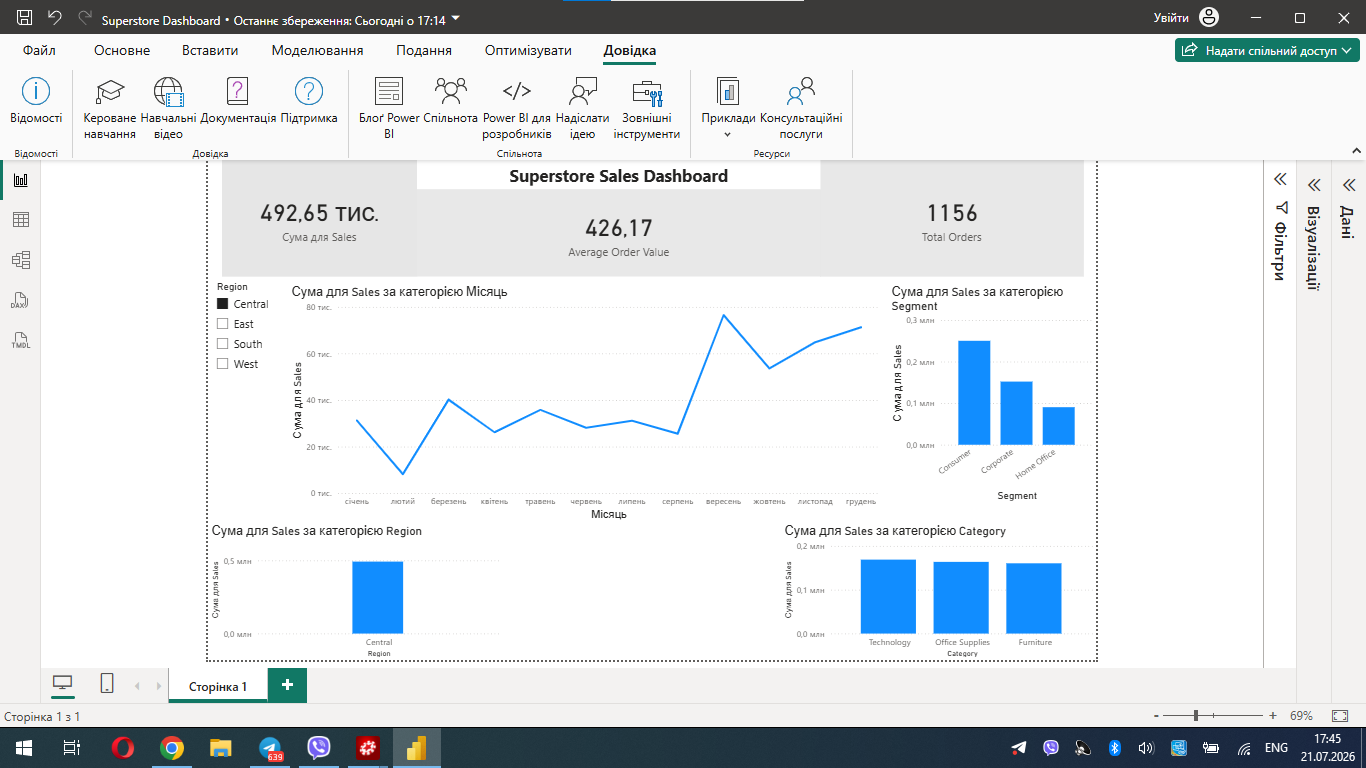

What the dashboard file says about the page in this screenshot:
{"tool":"powerbi","page":{"name":"Сторінка 1","canvas":[1280,720],"ordinal":0},"visuals":[{"type":"card","fields":{"Values":["Sum(train csv.Sales)"]},"box":[0,0,280.5,178.1],"z":0},{"type":"card","fields":{"Values":["Sum(train csv.Sales)"]},"box":[20.2,0,280.5,168],"z":1000},{"type":"columnChart","fields":{"Category":["train csv.Category"],"Y":["Sum(train csv.Sales)"]},"box":[824.8,522.4,455.2,198.2],"z":2000},{"type":"columnChart","fields":{"Category":["train csv.Region"],"Y":["Sum(train csv.Sales)"]},"box":[0,522.4,425,198.2],"z":3000},{"type":"columnChart","fields":{"Category":["train csv.Segment"],"Y":["Sum(train csv.Sales)"]},"box":[979.3,178.1,300.7,317.5],"z":4000},{"type":"lineChart","fields":{"Category":["train csv.Order Date.Варіація.Ієрархія дат.Місяць"],"Y":["Sum(train csv.Sales)"]},"box":[115.9,178.1,856.7,344.4],"z":5000},{"type":"slicer","fields":{"Values":["train csv.Region"]},"box":[0,168,115.9,168],"z":6000},{"type":"card","fields":{"Values":["train csv.Total Orders"]},"box":[881.9,0,379.6,168],"z":7000},{"type":"card","fields":{"Values":["train csv.Average Order Value"]},"box":[300.7,42,581.2,126],"z":8000},{"type":"textbox","box":[300.7,0,581.2,42],"z":9000}]}

Visuals, with their boxes on the page's 1280x720 design canvas (x1, y1, x2, y2). These are canvas units, not pixel positions in the 1366x768 screenshot, which may show the page scaled, cropped or inside an application window:
card - Sum(train csv.Sales): (0, 0, 280, 178)
card - Sum(train csv.Sales): (20, 0, 301, 168)
columnChart - train csv.Category x Sum(train csv.Sales): (825, 522, 1280, 721)
columnChart - train csv.Region x Sum(train csv.Sales): (0, 522, 425, 721)
columnChart - train csv.Segment x Sum(train csv.Sales): (979, 178, 1280, 496)
lineChart - train csv.Order Date.Варіація.Ієрархія дат.Місяць x Sum(train csv.Sales): (116, 178, 973, 522)
slicer - train csv.Region: (0, 168, 116, 336)
card - train csv.Total Orders: (882, 0, 1262, 168)
card - train csv.Average Order Value: (301, 42, 882, 168)
textbox: (301, 0, 882, 42)
